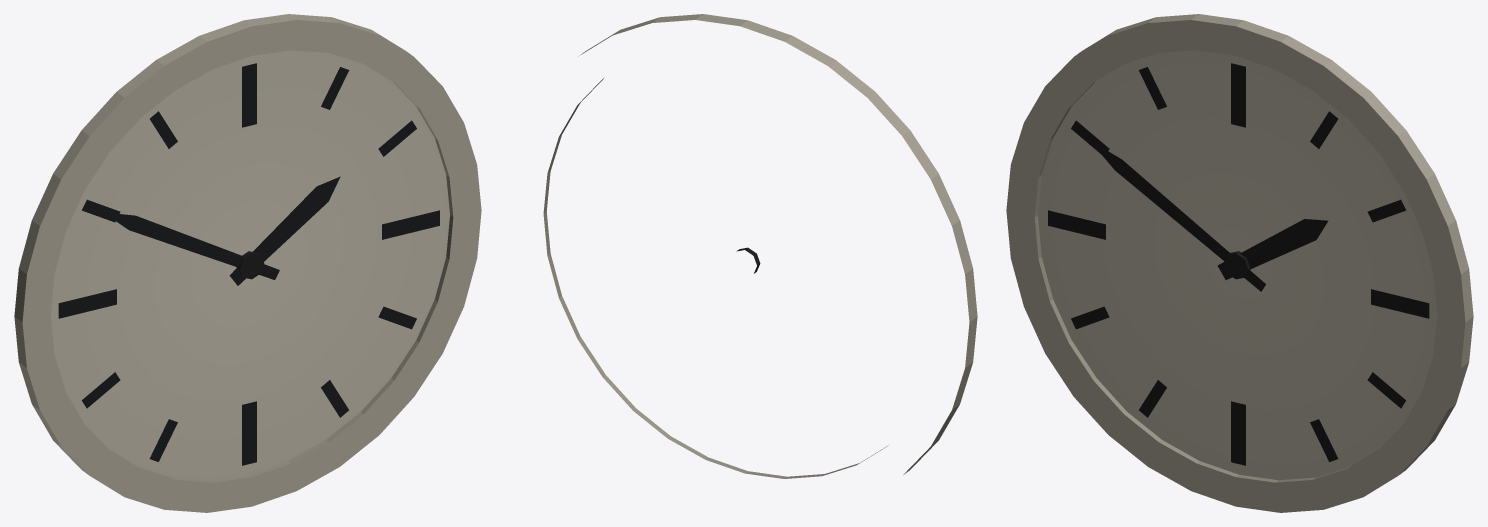
Rendered from sign.clock_face.cream.glb.
3 views of the same model, side by side, from view 1: azimuth 30°, elevation 25°; view 2: azimuth 150°, elevation 25°; view 3: azimuth 330°, elevation 25° (orthographic).
Visible parts, largest first — view 1: sign_clock_face_cream; view 2: sign_clock_face_cream; view 3: sign_clock_face_cream.
Boxes of the visible parts, left/top/right/bottom form: sign_clock_face_cream: left=14, top=14, right=481, bottom=512; sign_clock_face_cream: left=543, top=14, right=977, bottom=478; sign_clock_face_cream: left=1006, top=14, right=1473, bottom=512.
Size of what is drawn, in the model's own units: 2.6 by 2.6 by 0.08.
